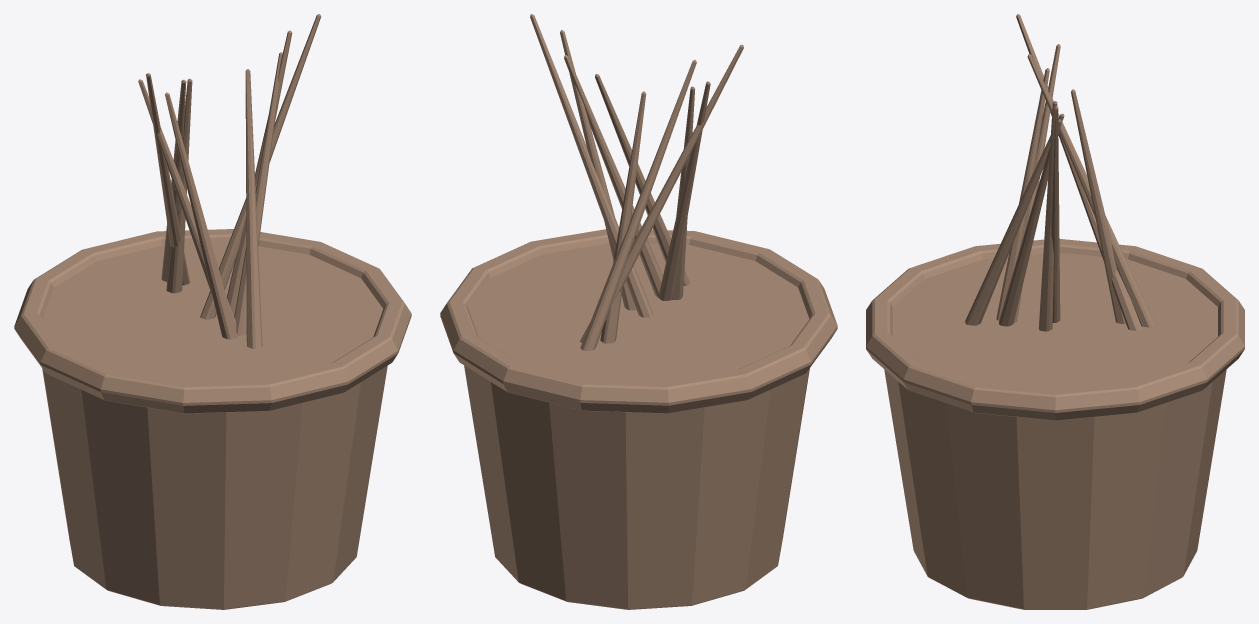
Rendered from p_plantpot.glb.
3 renders of one model, left to right at view 1: azimuth 30°, elevation 25°; view 2: azimuth 150°, elevation 25°; view 3: azimuth 270°, elevation 25°, orthographic. The views are drawn at different scales.
Parts seen in each view (by area): view 1: plantpot; view 2: plantpot; view 3: plantpot.
Boxes of the visible parts, x1,y1,x2,y2 form: plantpot: (14, 14, 411, 609); plantpot: (440, 14, 837, 609); plantpot: (866, 14, 1244, 609).
Size of the model in its own units: 0.5216 by 0.738 by 0.5085.
